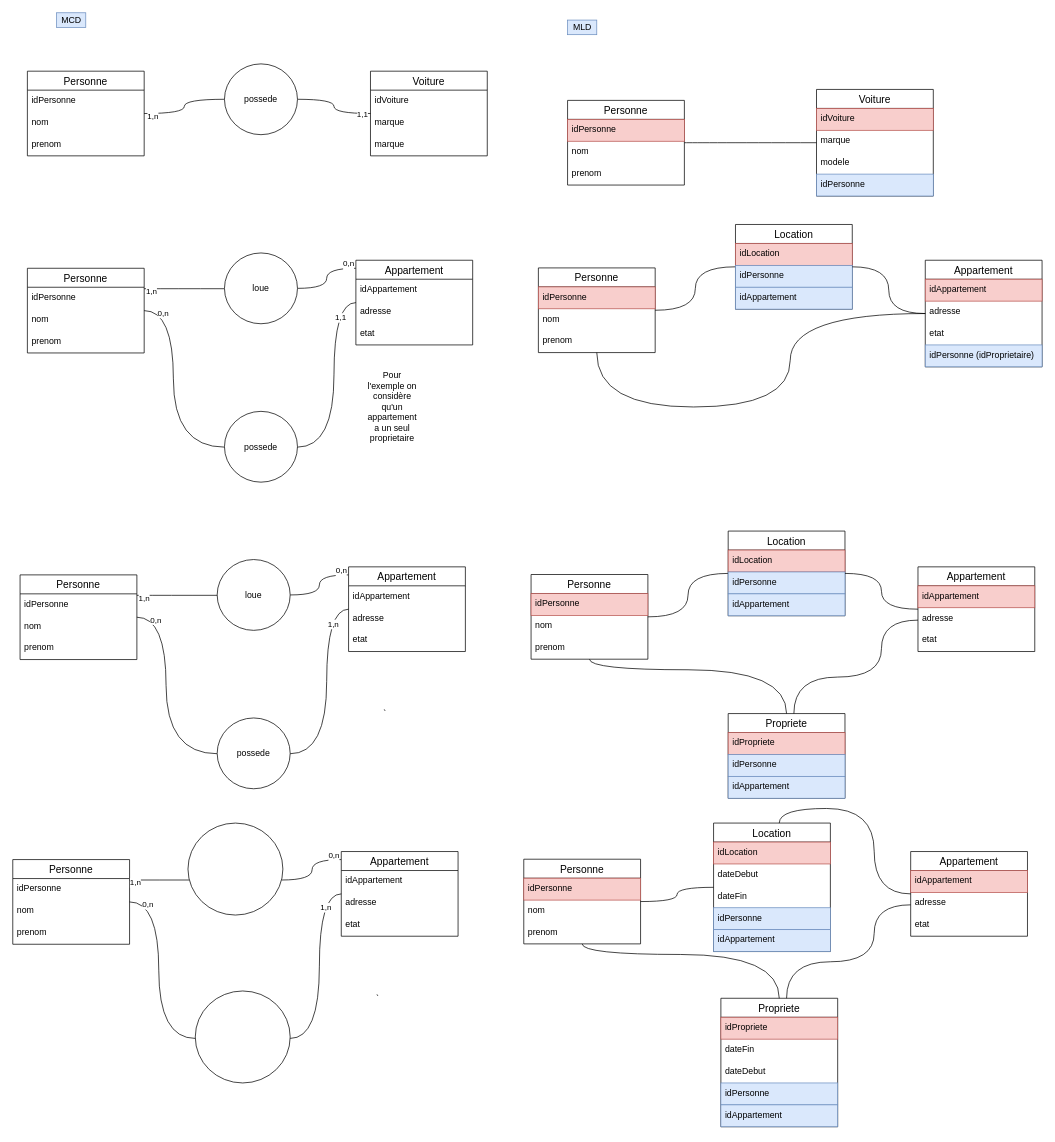
This 1055x1142 diagram has some shape labels left out. The centre of each missing label's shape, as x and y in pixels:
estProprietaire dateDebutPropriete dateFinPropriete: (242,1036)
loue dateDebutLocation dateFinLocation: (235,868)
